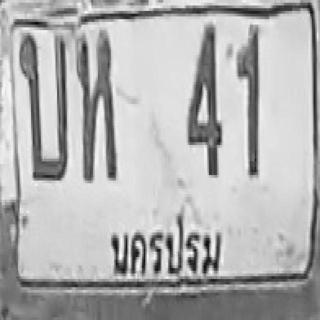A26: (18, 30, 68, 180)
A41: (77, 29, 118, 182)
N01: (236, 25, 260, 178)
N04: (186, 23, 222, 176)
P28: (105, 212, 224, 286)
